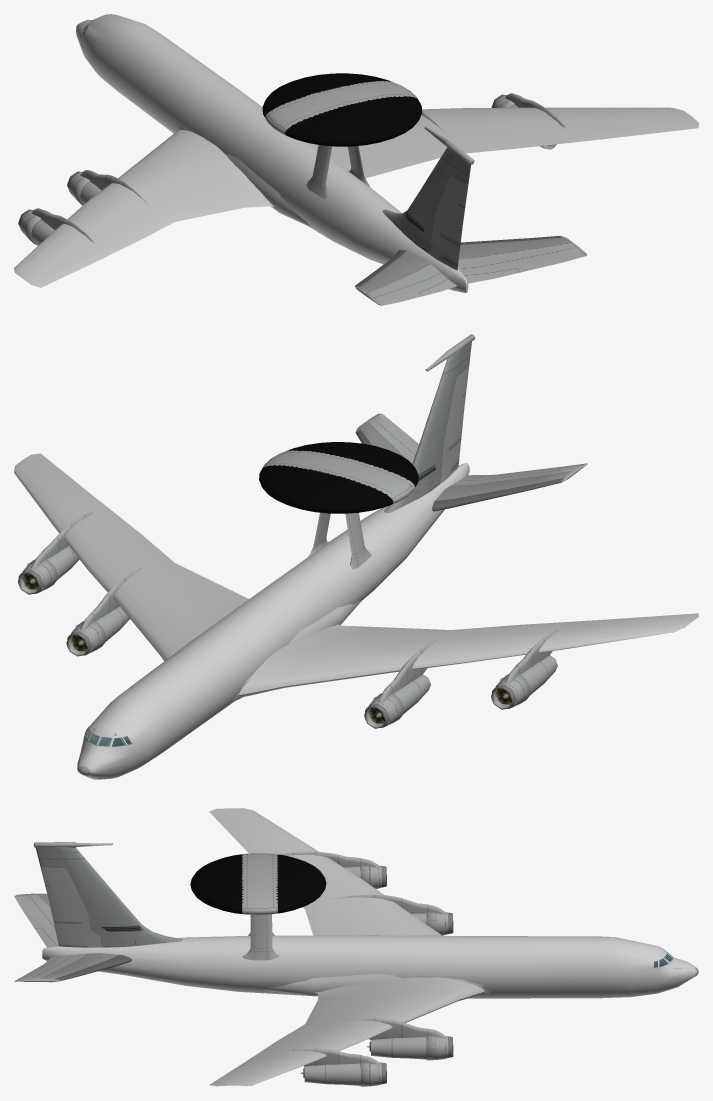
The picture shows the model from 3 angles, top to bottom: view 1: azimuth 30°, elevation 25°; view 2: azimuth 150°, elevation 25°; view 3: azimuth 270°, elevation 25°; orthographic projection. The views are drawn at different scales.
Parts seen in each view (by area): view 1: object 34, object 1, dvig_lev01-FACES.001, dvig_lev-FACES.001; view 2: object 34, object 1, dvig_lev-FACES.001, dvig_lev01-FACES.001, dvig_lev03-FACES.001, dvig_lev02-FACES.001; view 3: object 34, dvig_lev03-FACES.001, dvig_lev02-FACES.001, object 1, dvig_lev-FACES.001, dvig_lev01-FACES.001.
Boxes of the visible parts, <box> form: object 34: <box>14,14,698,305</box>; object 1: <box>306,126,474,199</box>; dvig_lev01-FACES.001: <box>19,210,54,245</box>; dvig_lev-FACES.001: <box>68,172,101,205</box>; object 34: <box>14,342,698,779</box>; object 1: <box>308,334,475,569</box>; dvig_lev-FACES.001: <box>366,674,430,727</box>; dvig_lev01-FACES.001: <box>493,655,557,708</box>; dvig_lev03-FACES.001: <box>68,607,129,655</box>; dvig_lev02-FACES.001: <box>20,546,79,593</box>; object 34: <box>14,808,698,1086</box>; dvig_lev03-FACES.001: <box>370,1036,448,1060</box>; dvig_lev02-FACES.001: <box>304,1062,381,1086</box>; object 1: <box>33,842,279,960</box>; dvig_lev-FACES.001: <box>412,912,448,935</box>; dvig_lev01-FACES.001: <box>344,865,381,888</box>.
Size of the model in its own units: 43.86 by 11.44 by 45.81.
Materials: 49 (27 with a texture image).
